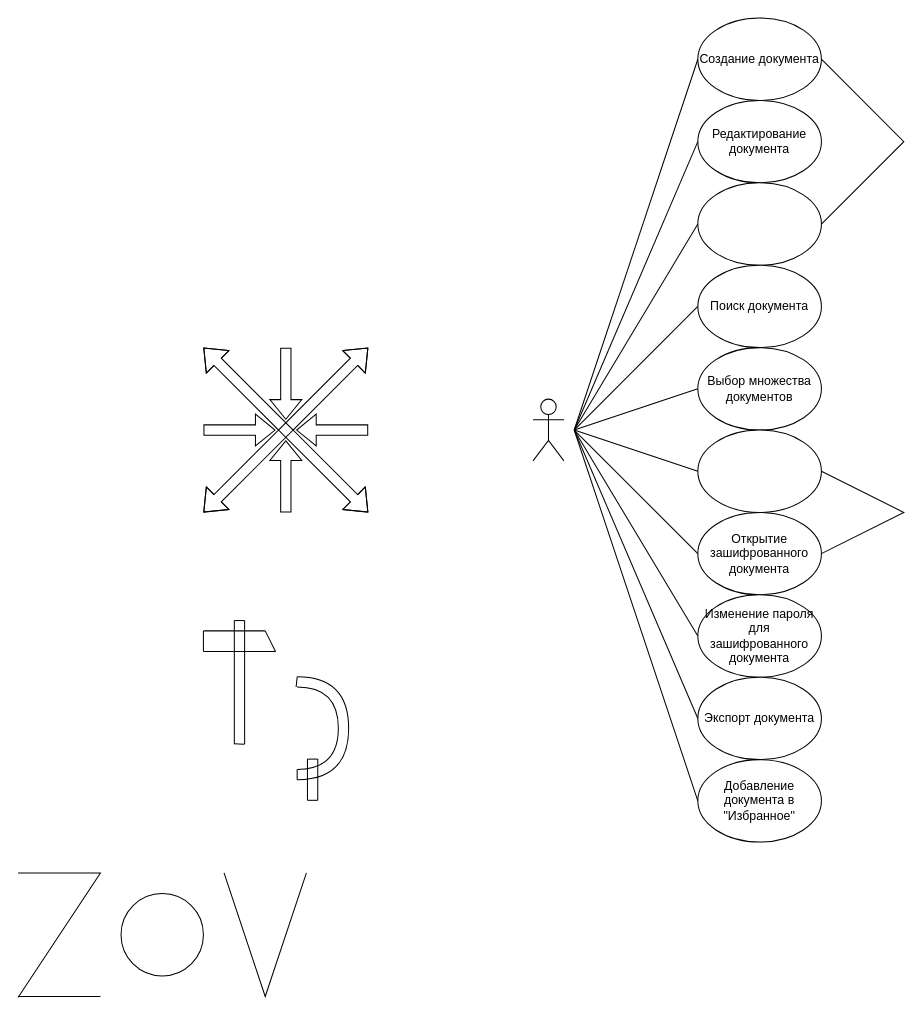
Image size: 923x1017. Some labels were removed from this diagram. Each missing label, with the centre of its shape:
"Пользователь" belongs at [548,429].
"Удаление документа" belongs at [759,223].
"Шифрование документа" belongs at [759,470].
